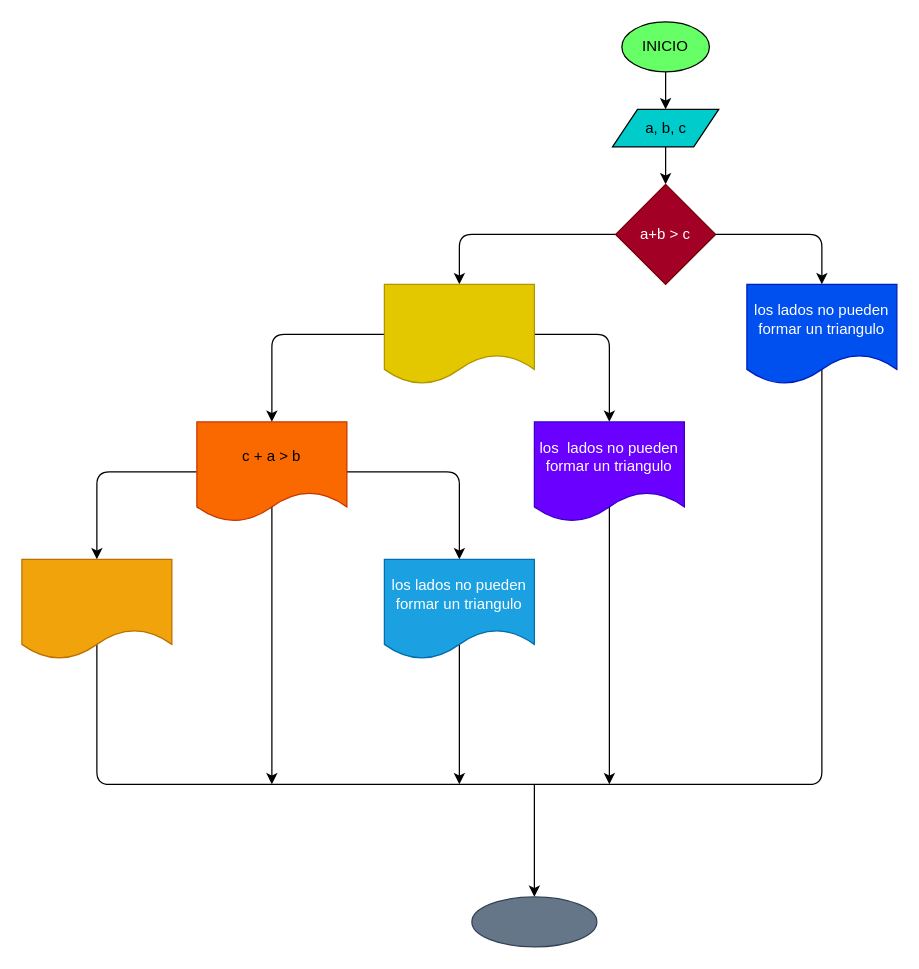
Image size: 919x969. Some labels were removed from this diagram. Here are the shapes that lost their labels. From the top down, the centre of each, then its label:
At (458,333): "b+c > a".
At (96,608): "los lados pueden formar un triangulo".
At (534,921): "FIN".
